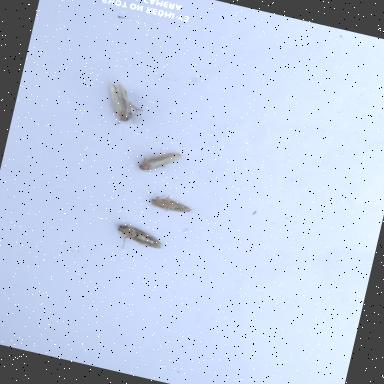pbw: (98, 212, 181, 264), (94, 70, 156, 134), (128, 136, 196, 186), (134, 183, 206, 227)
